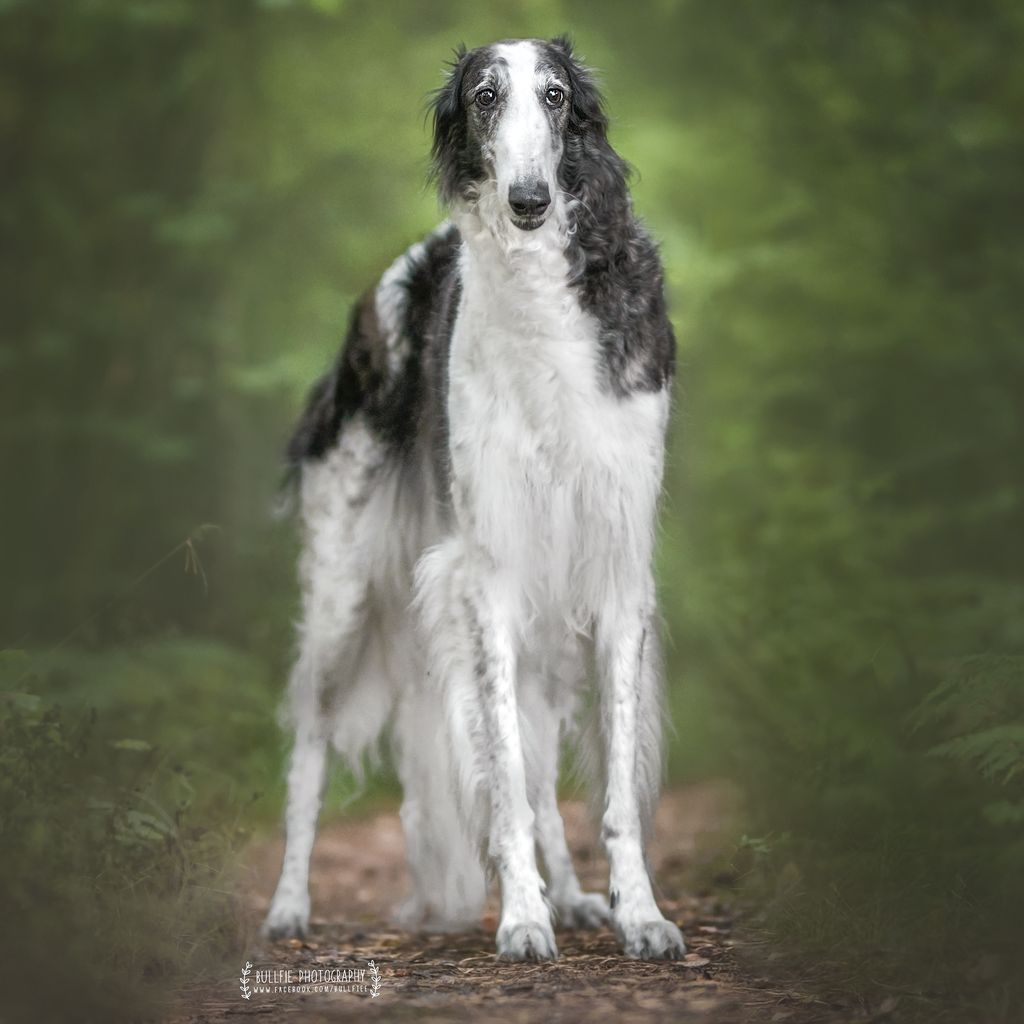borzoi: (250, 36, 714, 958)
